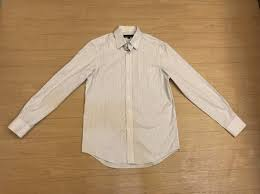S_shirt: (8, 25, 246, 169)
